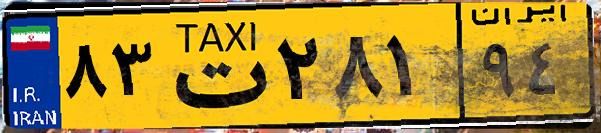1: (385, 28, 445, 110)
2: (270, 28, 330, 110)
3: (110, 28, 158, 98)
4: (525, 38, 570, 115)
8: (330, 28, 385, 110), (57, 26, 110, 100)
9: (475, 38, 525, 113)
ت: (158, 12, 270, 120)
